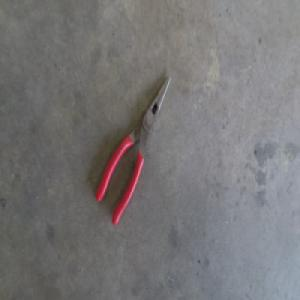Pliers: (95, 74, 171, 226)
